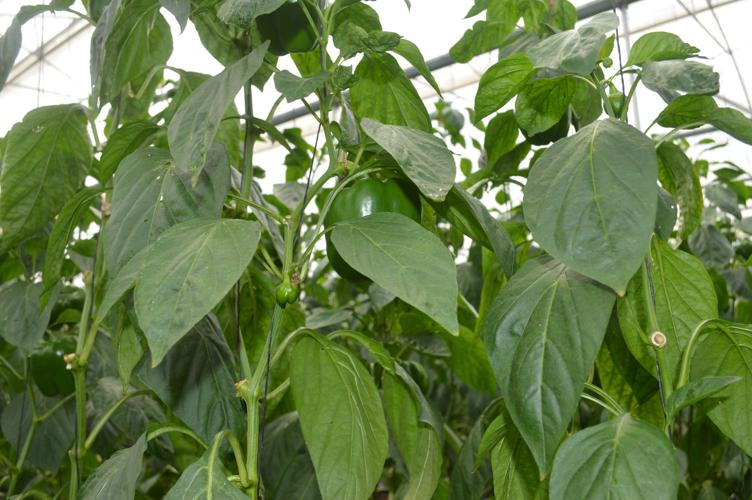BellPepper: (325, 176, 426, 273), (32, 338, 87, 401)
